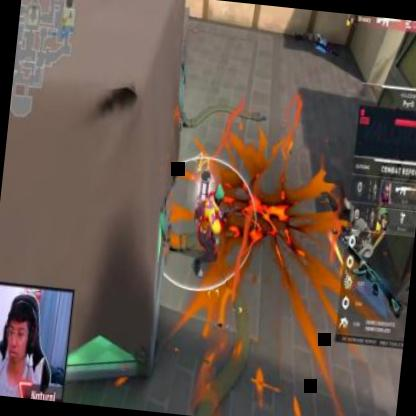enemy: (187, 180, 231, 280)
enemy_head: (212, 182, 225, 205)
